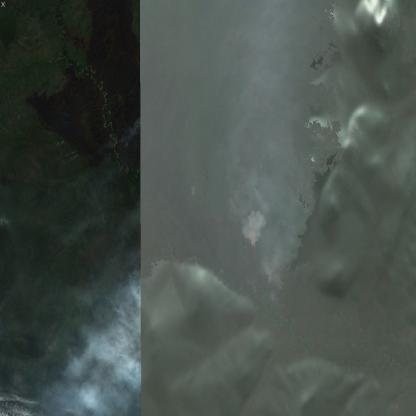fire: (254, 264, 284, 310), (242, 223, 261, 255)
